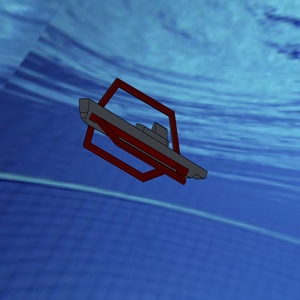submarine: (38, 49, 228, 213)
